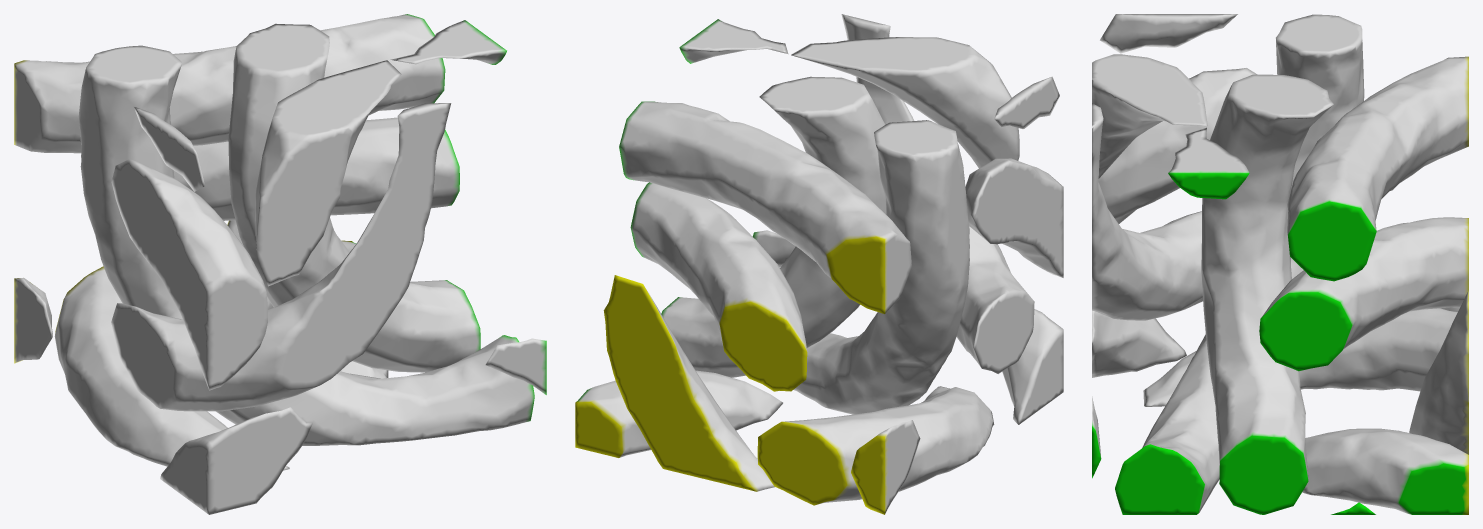
The model's file is REV_5_colored.obj.
3 views of the same model, side by side, from view 1: azimuth 30°, elevation 25°; view 2: azimuth 150°, elevation 25°; view 3: azimuth 270°, elevation 25° (orthographic). The views are drawn at different scales.
Bounding box in the file's own units: 1 × 1 × 1.
